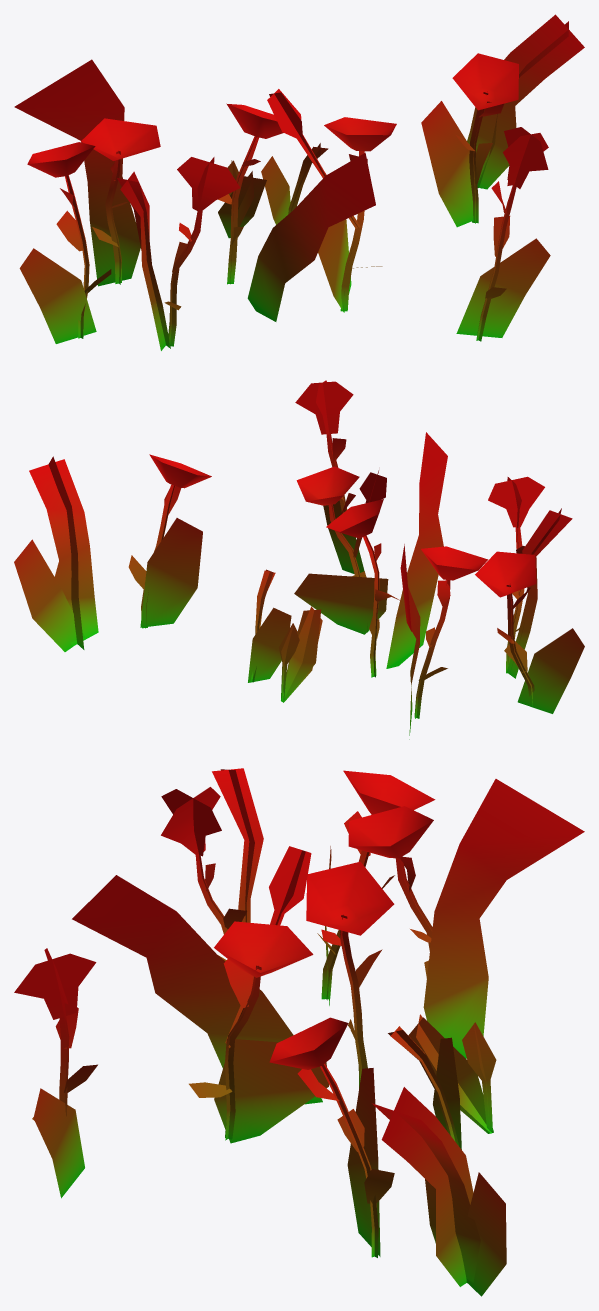
File: Var10_LOD0.fbx
3 renders of one model, top to bottom at view 1: azimuth 30°, elevation 25°; view 2: azimuth 150°, elevation 25°; view 3: azimuth 270°, elevation 25°, orthographic. The views are drawn at different scales.
Parts seen in each view (by area): view 1: _3063_Var10_LOD0; view 2: _3063_Var10_LOD0; view 3: _3063_Var10_LOD0.
Boxes of the visible parts, x1,y1,x2,y2 form: _3063_Var10_LOD0: [14, 14, 584, 350]; _3063_Var10_LOD0: [14, 380, 584, 739]; _3063_Var10_LOD0: [14, 768, 584, 1296].
Size of the model in its own units: 18.63 by 6.78 by 12.35.
